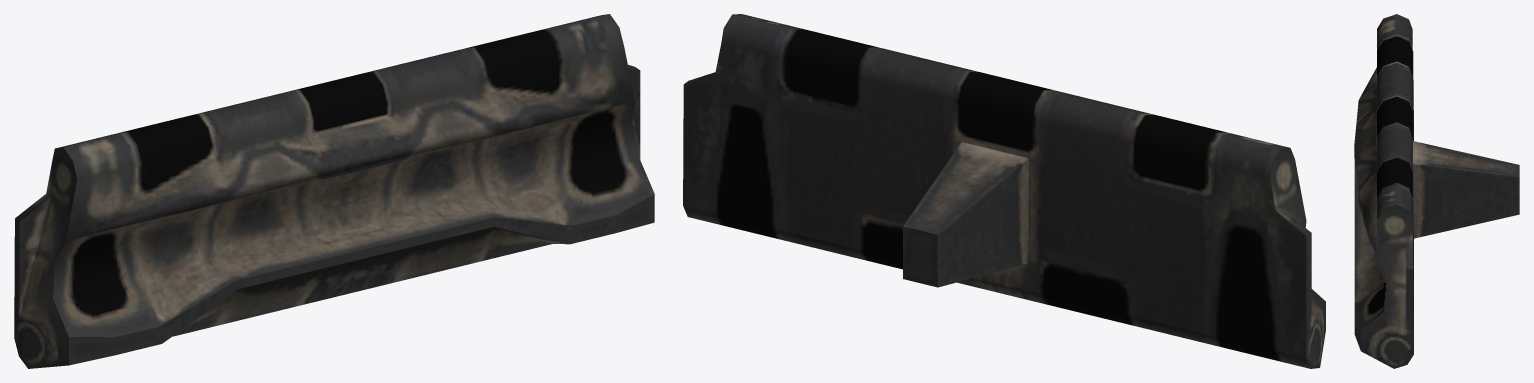
3 views of the same model, side by side, from view 1: azimuth 30°, elevation 25°; view 2: azimuth 150°, elevation 25°; view 3: azimuth 270°, elevation 25° (orthographic). The views are drawn at different scales.
Parts seen in each view (by area): view 1: set_0_group_0; view 2: set_0_group_0; view 3: set_0_group_0.
Part boxes in pixels (x1=…): set_0_group_0: x1=14, y1=14, x2=654, y2=368; set_0_group_0: x1=683, y1=14, x2=1325, y2=368; set_0_group_0: x1=1354, y1=14, x2=1519, y2=368.
Bounding box in the file's own units: 0.5744 × 0.1868 × 0.1851.
1 material, 1 textured.
